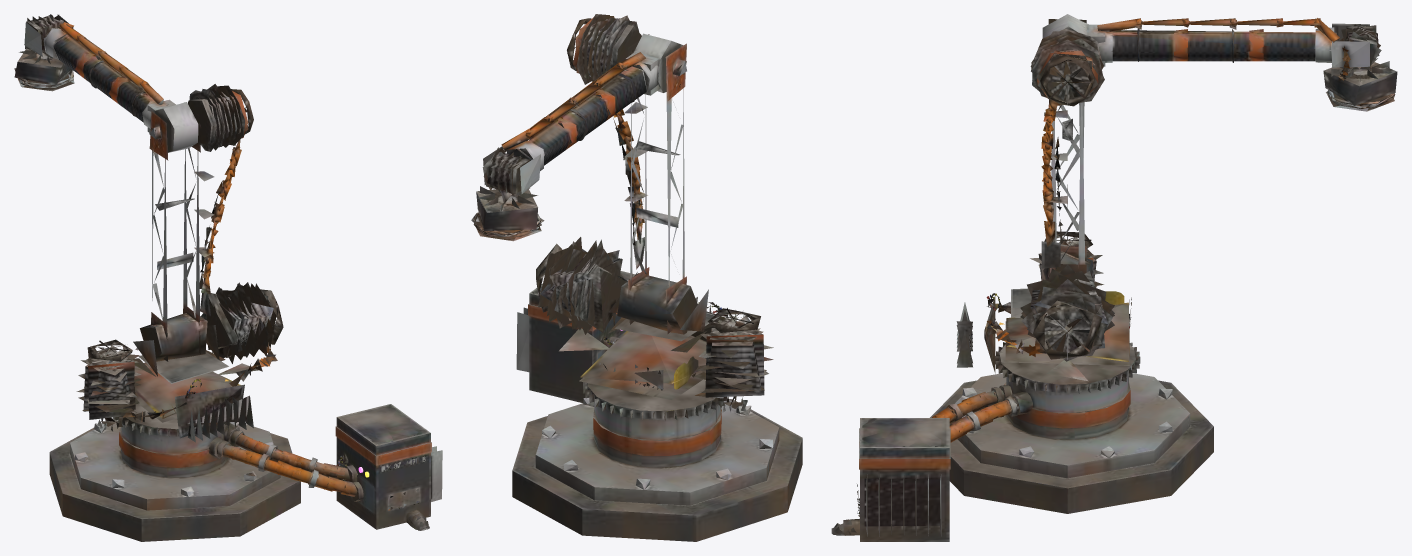
Rendered from braco_rapido.glb.
3 renders of one model, left to right at view 1: azimuth 30°, elevation 25°; view 2: azimuth 150°, elevation 25°; view 3: azimuth 270°, elevation 25°, orthographic. The views are drawn at different scales.
Parts seen in each view (by area): view 1: braco_rapido_base, braco_rapido_giro, braco_rapido_braco1, braco_rapido_braco2, braco_rapido_garra; view 2: braco_rapido_base, braco_rapido_giro, braco_rapido_braco1, braco_rapido_braco2, braco_rapido_garra; view 3: braco_rapido_base, braco_rapido_giro, braco_rapido_braco2, braco_rapido_braco1, braco_rapido_garra.
Boxes of the visible parts, x1,y1,x2,y2 form: braco_rapido_base: [49, 404, 442, 541]; braco_rapido_giro: [76, 282, 283, 442]; braco_rapido_braco1: [140, 84, 253, 361]; braco_rapido_braco2: [24, 14, 198, 152]; braco_rapido_garra: [14, 14, 74, 91]; braco_rapido_base: [512, 271, 802, 541]; braco_rapido_giro: [536, 237, 773, 413]; braco_rapido_braco1: [567, 14, 697, 334]; braco_rapido_braco2: [483, 33, 683, 193]; braco_rapido_garra: [471, 147, 544, 241]; braco_rapido_base: [831, 342, 1213, 541]; braco_rapido_giro: [956, 231, 1131, 381]; braco_rapido_braco2: [1042, 14, 1369, 67]; braco_rapido_braco1: [1030, 19, 1104, 279]; braco_rapido_garra: [1323, 24, 1397, 111].
Bounding box in the file's own units: 0.8 × 1.03 × 1.2.
Materials: 3 (1 with a texture image).
